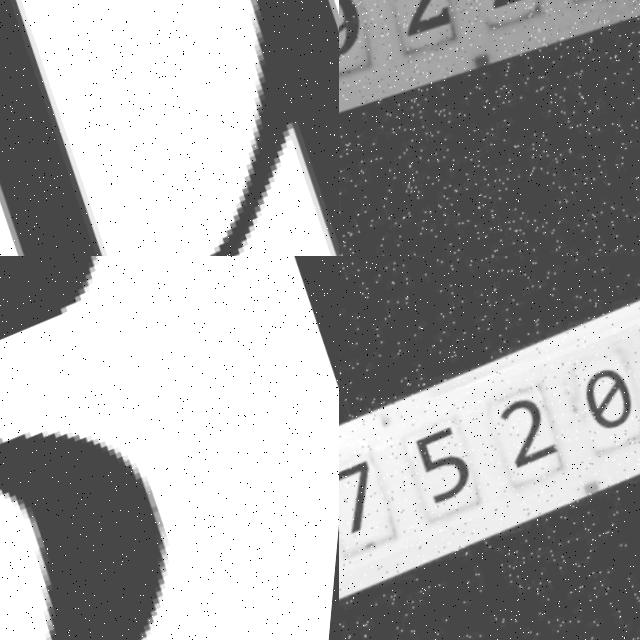0: (548, 333, 640, 462)
2: (463, 365, 588, 496), (360, 0, 482, 61), (446, 0, 566, 35)
5: (0, 256, 310, 640), (383, 401, 506, 528)
7: (339, 430, 418, 564)
9: (339, 0, 397, 87)
U: (0, 0, 339, 256)
